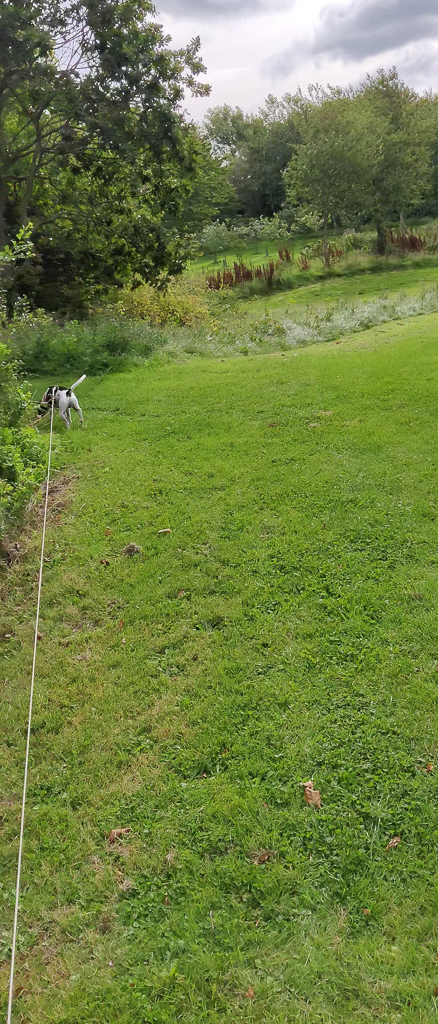Dog: (31, 371, 92, 433)
